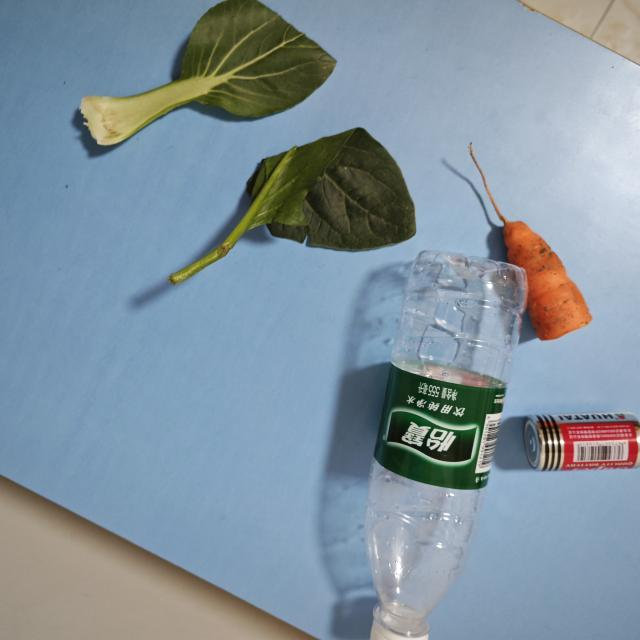-Kitchen waste - carrot-: (498, 217, 594, 345)
-Kitchen waste - vegetable roots and leaves-: (169, 125, 417, 284), (80, 0, 338, 146)
-Recyclables - plastic bottle-: (365, 248, 530, 640), (526, 410, 640, 473)
